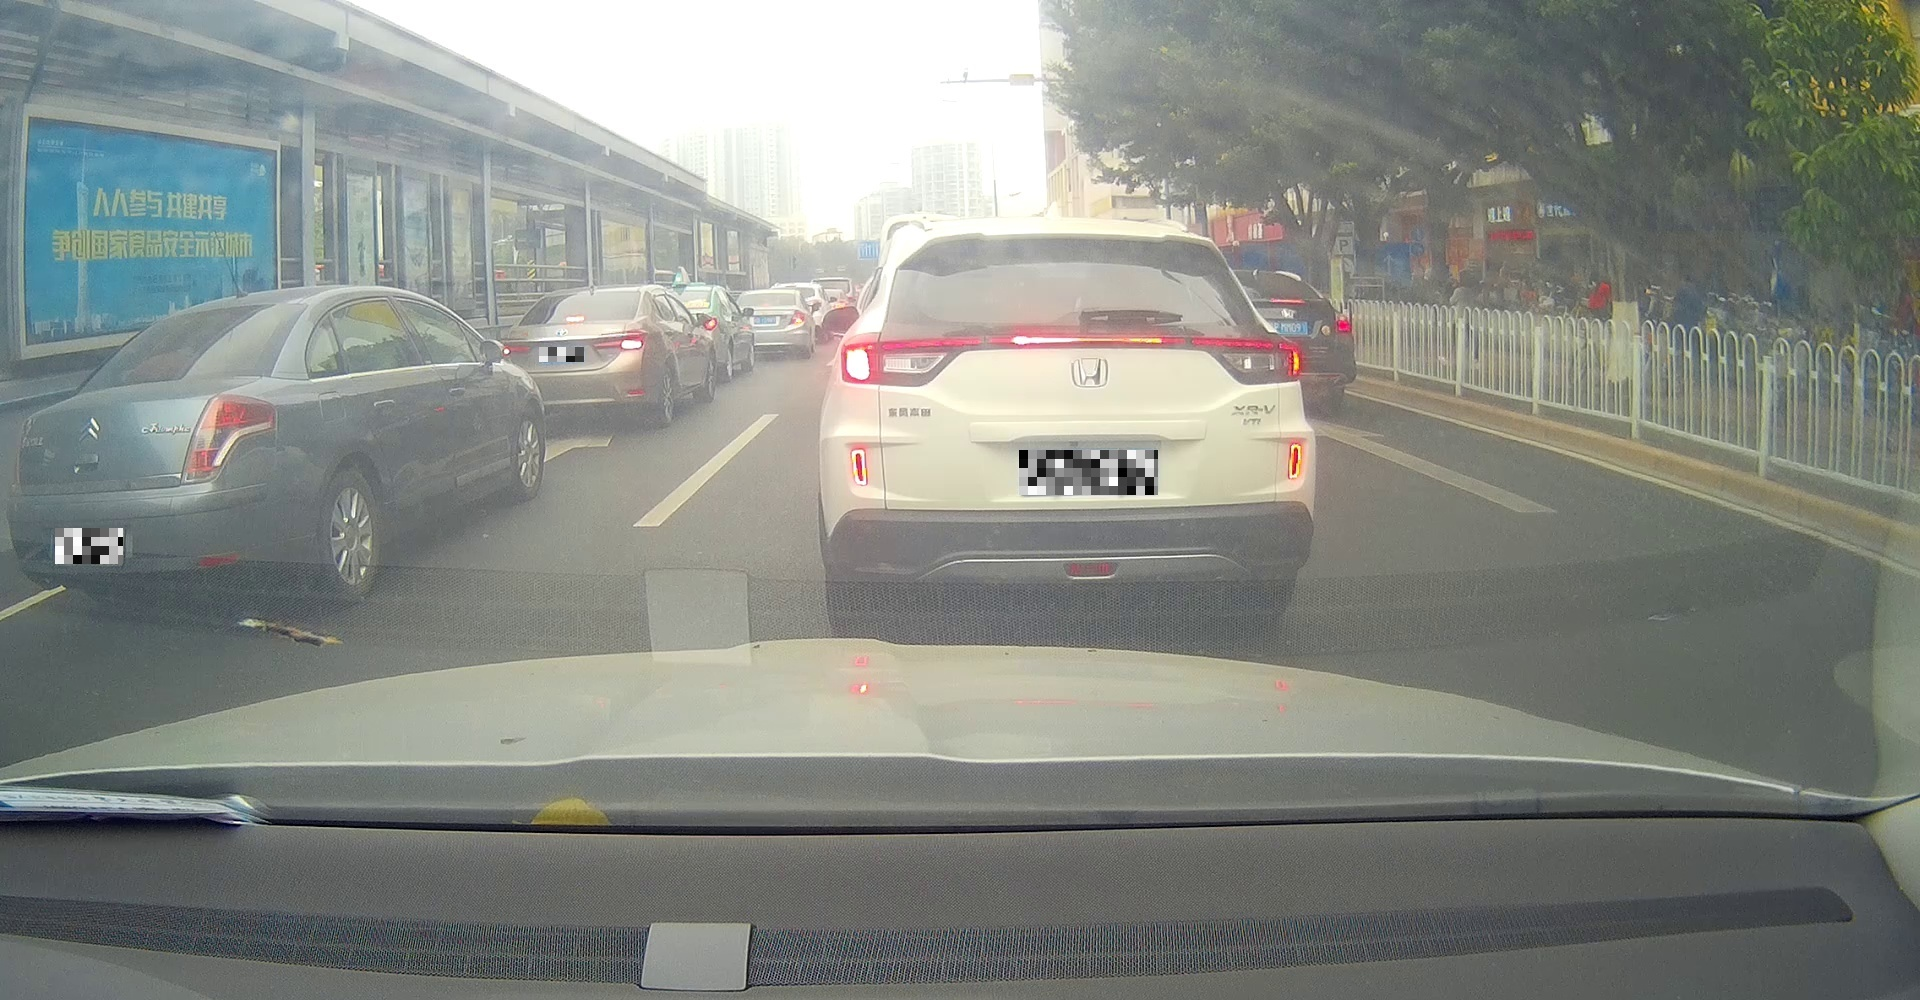L_light: (841, 336, 984, 388), (14, 440, 27, 492), (504, 346, 532, 355)
R_light: (180, 393, 278, 484), (1192, 338, 1302, 386), (596, 338, 644, 350)
T_light: (1013, 338, 1163, 346), (215, 308, 250, 313), (566, 315, 585, 324)
day-brake: (818, 218, 1317, 617), (504, 286, 654, 431)
day-no: (9, 288, 311, 609)
plate_1: (55, 528, 123, 563)
plate_2: (538, 346, 584, 362)
plate_3: (1018, 451, 1158, 495)
